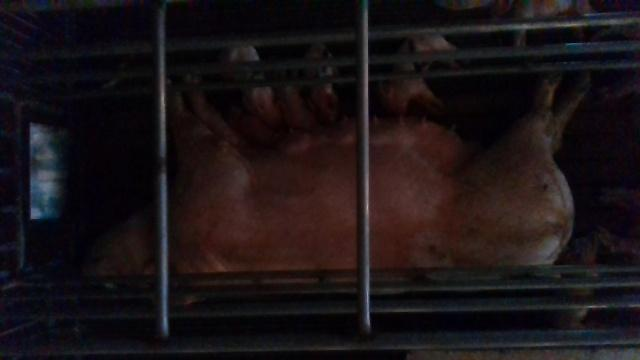piglet: (374, 34, 465, 116), (230, 47, 281, 128), (302, 42, 338, 121)
sow-sleep-lactate: (92, 76, 585, 308)
